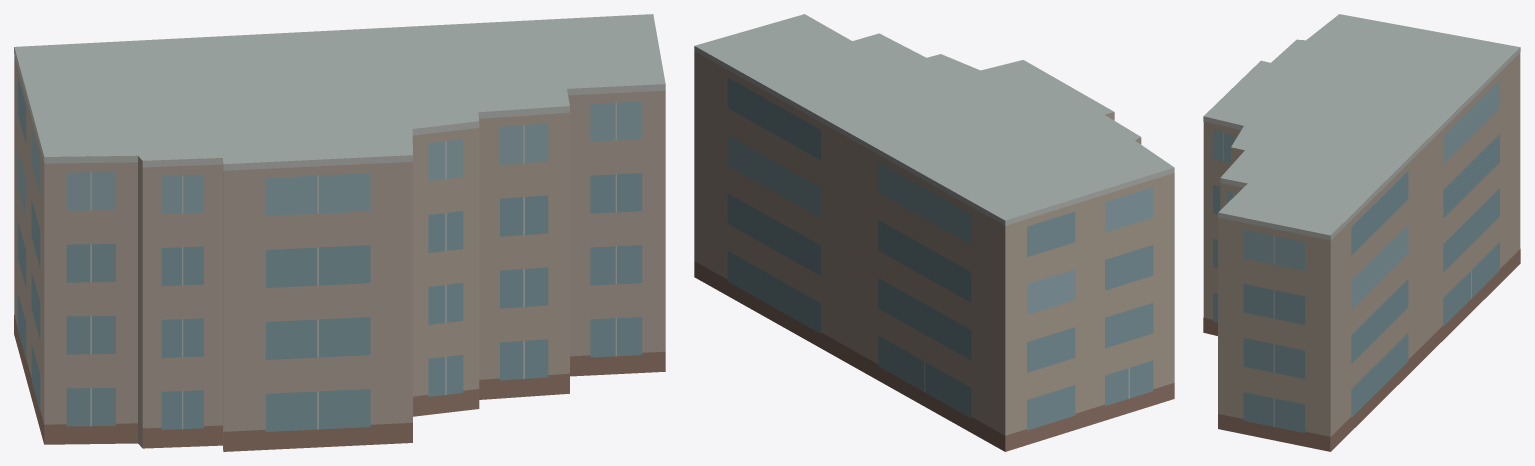
File: survey-upis-32755294.glb
The picture shows the model from 3 angles, left to right: view 1: azimuth 30°, elevation 25°; view 2: azimuth 150°, elevation 25°; view 3: azimuth 270°, elevation 25°; orthographic projection. The views are drawn at different scales.
Parts seen in each view (by area): view 1: survey-upis-32755294.tmp; view 2: survey-upis-32755294.tmp; view 3: survey-upis-32755294.tmp.
Boxes of the visible parts, left/top/right/bottom form: survey-upis-32755294.tmp: left=14, top=14, right=665, bottom=451; survey-upis-32755294.tmp: left=694, top=14, right=1174, bottom=451; survey-upis-32755294.tmp: left=1203, top=14, right=1520, bottom=451.
Bounding box in the file's own units: 23.27 × 10.6 × 14.08.
